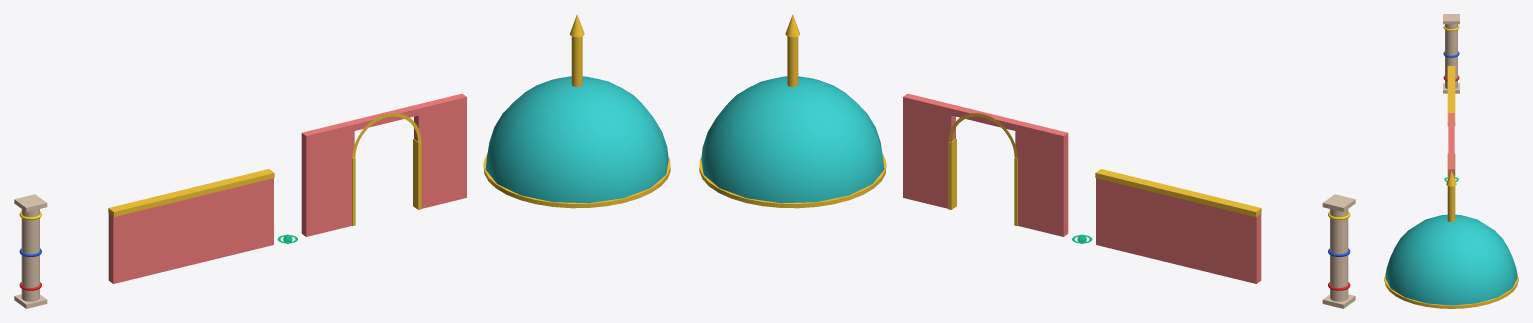
File: showcase_all.glb
The picture shows the model from 3 angles, left to right: view 1: azimuth 30°, elevation 25°; view 2: azimuth 150°, elevation 25°; view 3: azimuth 270°, elevation 25°; orthographic projection. The views are drawn at different scales.
Bounding box in the file's own units: 39.7 × 9.45 × 10.1.
